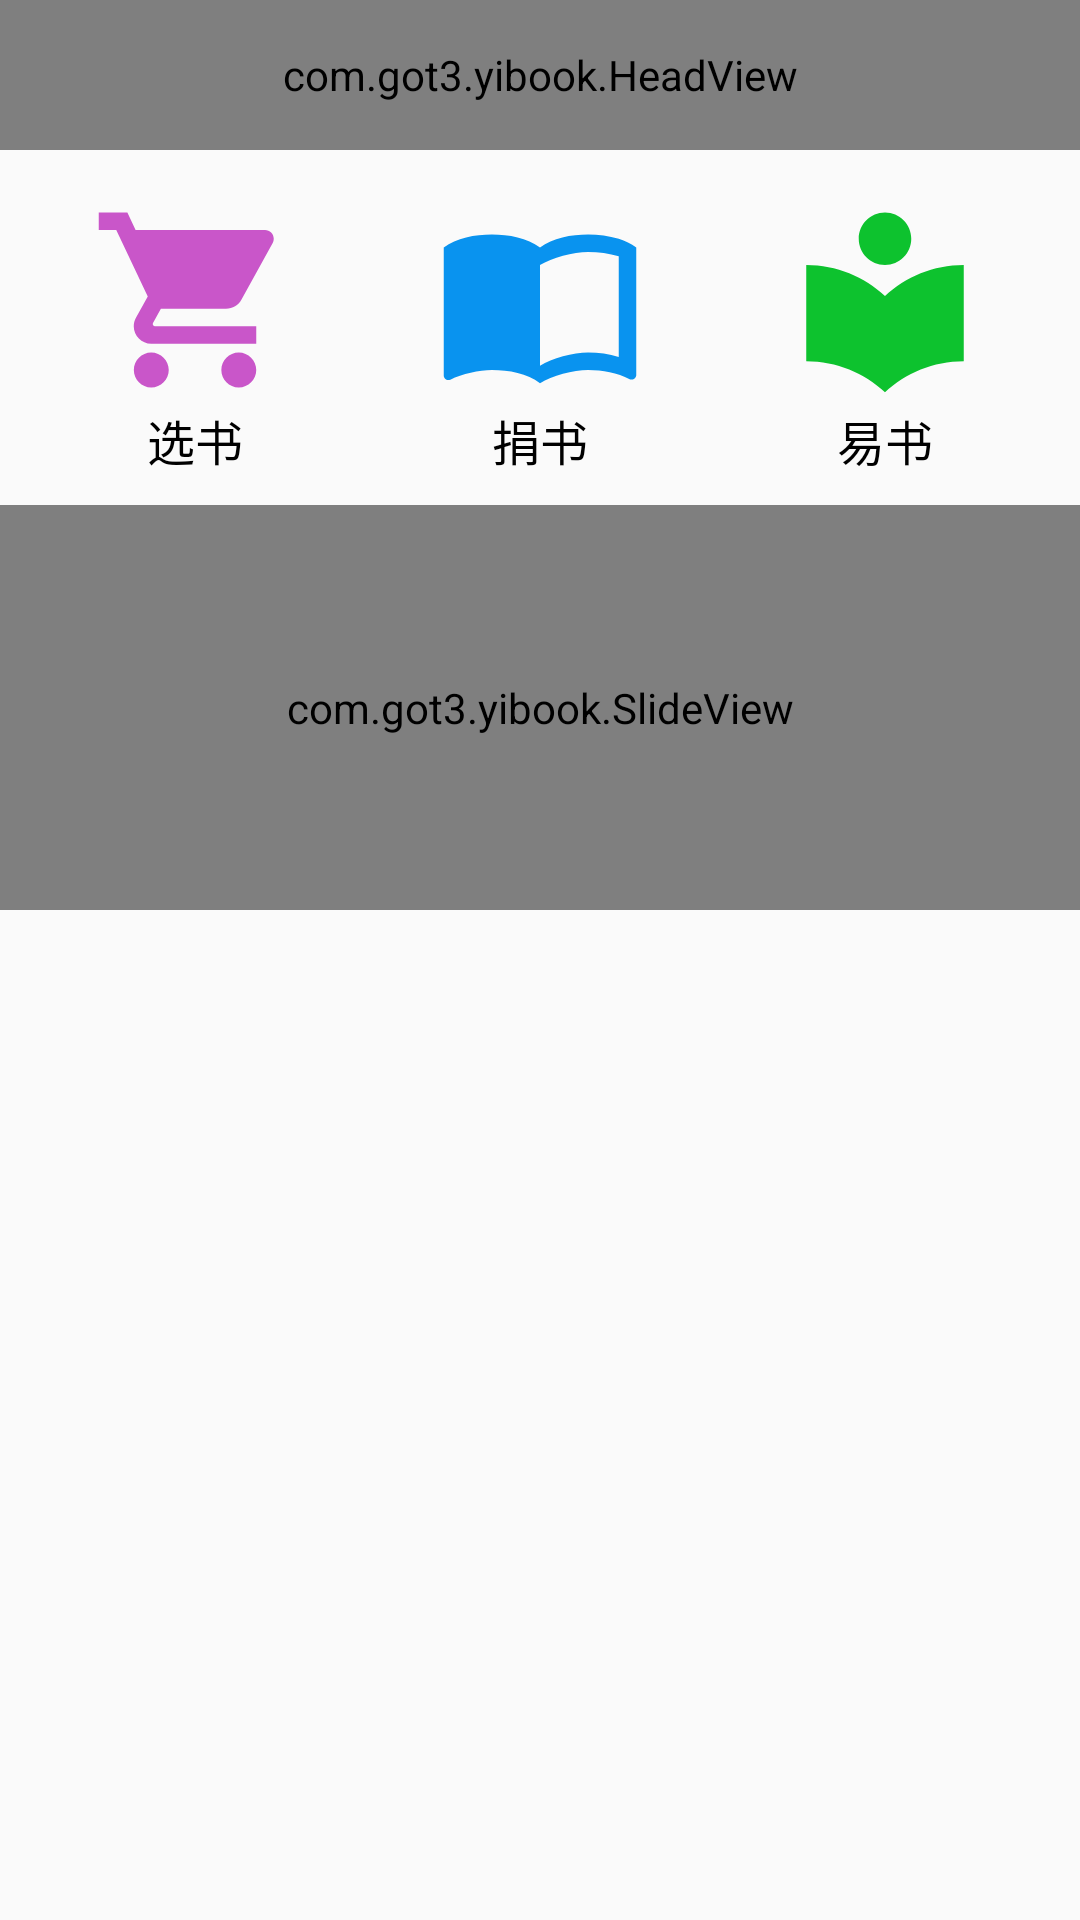

Where icons sit on this 1080w x 1920h app screen, as [x1=x1, y1=y1, x2=x2, y2=y2]:
shopping car: [x1=98, y1=212, x2=274, y2=388]
